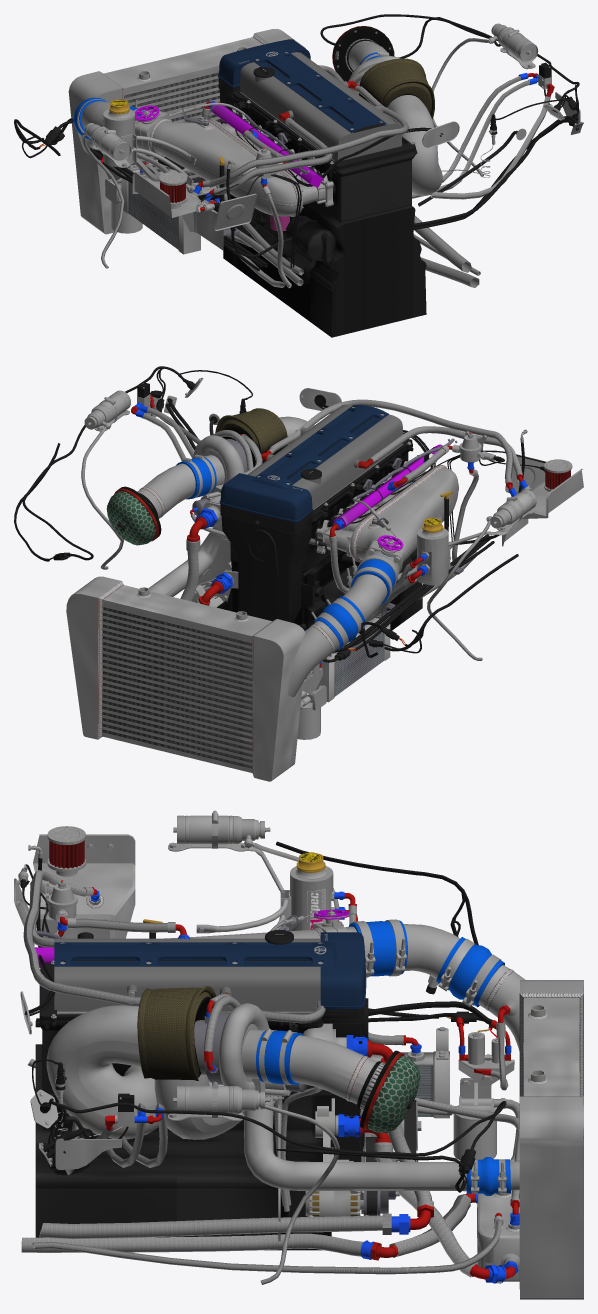
The model's file is eng-i6-30-legend.glb.
The picture shows the model from 3 angles, top to bottom: view 1: azimuth 30°, elevation 25°; view 2: azimuth 150°, elevation 25°; view 3: azimuth 270°, elevation 25°; orthographic projection. The views are drawn at different scales.
Visible parts, largest first — view 1: Object_11, Object_9, Object_3, Object_12, Object_8, Object_4, Object_5, Object_6, Object_2, Object_13; view 2: Object_9, Object_11, Object_3, Object_8, Object_6, Object_12, Object_4, Object_5, Object_2, Object_13; view 3: Object_9, Object_11, Object_12, Object_3, Object_8, Object_5, Object_4, Object_6, Object_2, Object_13.
Boxes of the visible parts, box(x1,y1,x2,y2) form: Object_11: box(111, 58, 434, 337); Object_9: box(68, 23, 583, 254); Object_3: box(79, 49, 415, 236); Object_12: box(81, 38, 550, 288); Object_8: box(111, 51, 442, 233); Object_4: box(14, 14, 579, 271); Object_5: box(74, 52, 578, 211); Object_6: box(218, 39, 310, 123); Object_2: box(332, 26, 394, 81); Object_13: box(99, 33, 374, 216); Object_9: box(66, 378, 583, 781); Object_11: box(102, 408, 570, 768); Object_3: box(176, 404, 463, 649); Object_8: box(182, 416, 458, 739); Object_6: box(219, 473, 313, 622); Object_12: box(81, 399, 522, 708); Object_4: box(14, 366, 545, 662); Object_5: box(131, 378, 545, 678); Object_2: box(106, 486, 161, 545); Object_13: box(98, 465, 532, 777); Object_9: box(14, 810, 583, 1299); Object_11: box(35, 840, 432, 1250); Object_12: box(21, 843, 519, 1284); Object_3: box(35, 909, 504, 1234); Object_8: box(46, 910, 496, 1241); Object_5: box(20, 852, 519, 1283); Object_4: box(22, 841, 506, 1192); Object_6: box(320, 932, 368, 1161); Object_2: box(357, 1050, 420, 1132); Object_13: box(86, 894, 583, 1288).
Size of the model in its own units: 1.56 by 0.7148 by 1.23.
6 materials, 6 textured.
